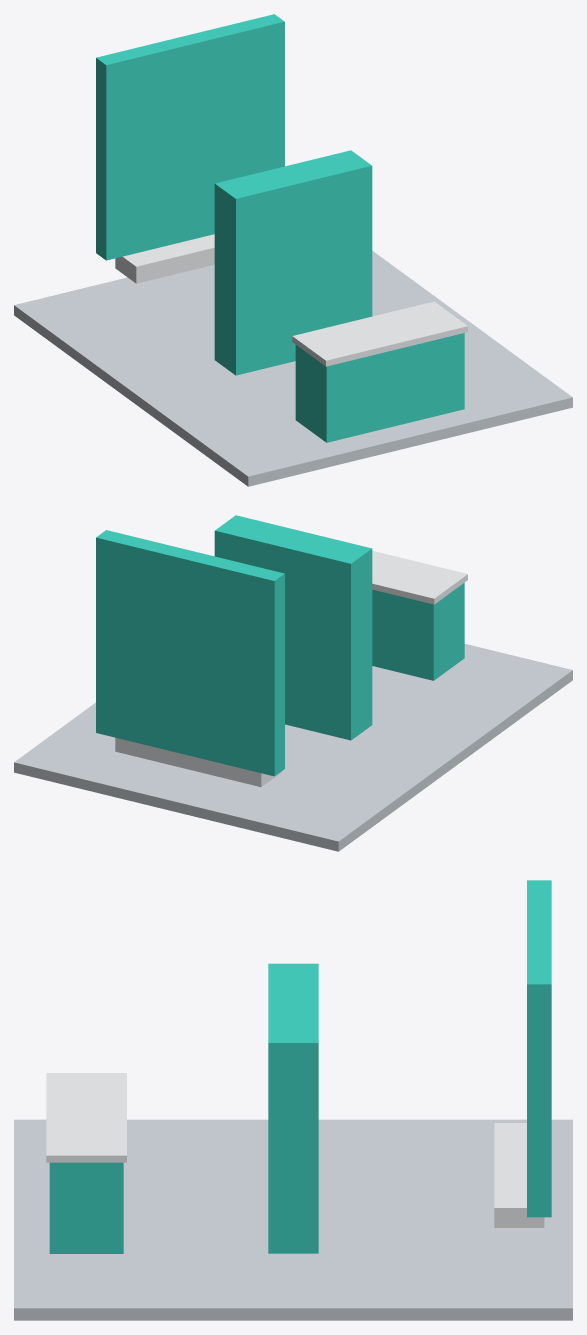
3 views of the same model, one above another, from view 1: azimuth 30°, elevation 25°; view 2: azimuth 150°, elevation 25°; view 3: azimuth 270°, elevation 25° (orthographic). The views are drawn at different scales.
Parts seen in each view (by area): view 1: Exhibition Booth Concept; view 2: Exhibition Booth Concept; view 3: Exhibition Booth Concept.
Boxes of the visible parts, left/top/right/bottom form: Exhibition Booth Concept: left=14, top=14, right=572, bottom=486; Exhibition Booth Concept: left=14, top=515, right=572, bottom=851; Exhibition Booth Concept: left=14, top=880, right=572, bottom=1320.
Bounding box in the file's own units: 4 × 2.9 × 5.
